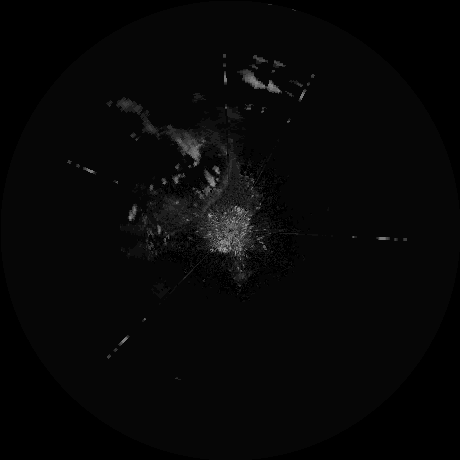frontgust: (202, 159, 232, 217)
